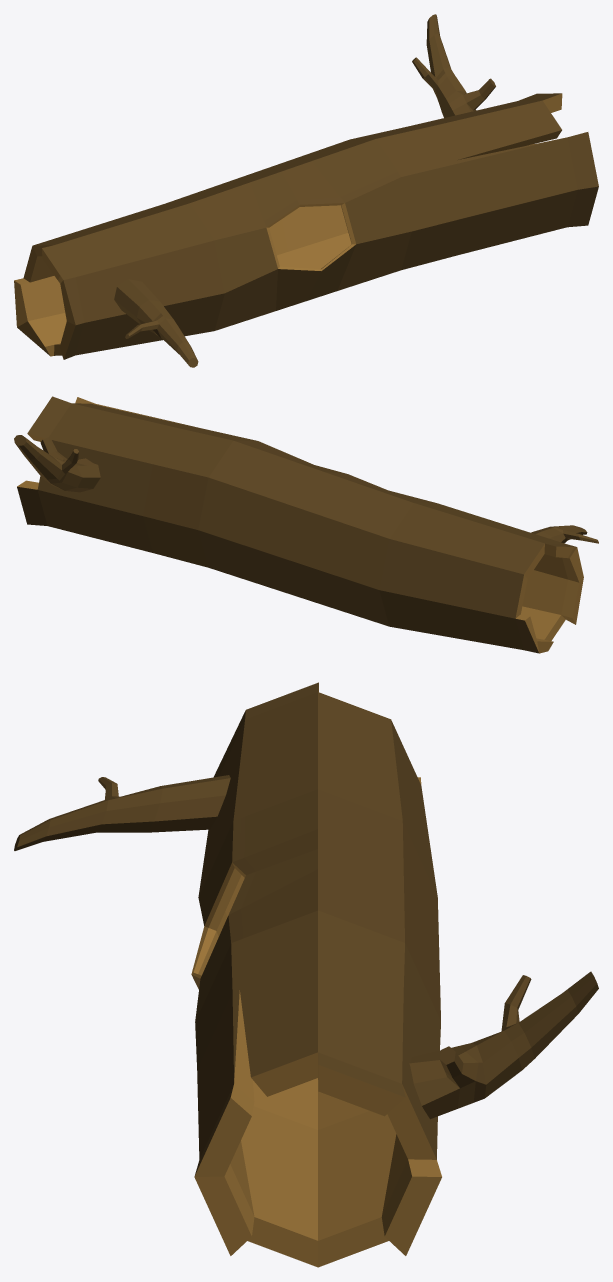
File: woodenlog.fbx
The picture shows the model from 3 angles, top to bottom: view 1: azimuth 30°, elevation 25°; view 2: azimuth 150°, elevation 25°; view 3: azimuth 270°, elevation 25°; orthographic projection. The views are drawn at different scales.
Visible parts, largest first — view 1: Circle; view 2: Circle; view 3: Circle.
Boxes of the visible parts, x1,y1,x2,y2 form: Circle: (14, 14, 598, 367); Circle: (14, 396, 598, 653); Circle: (14, 682, 598, 1267).
Bounding box in the file's own units: 624 × 203 × 357.
